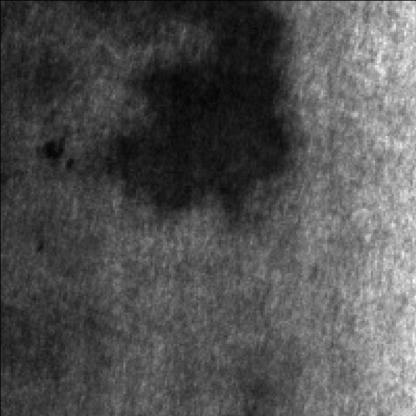patches: (110, 0, 289, 198)
